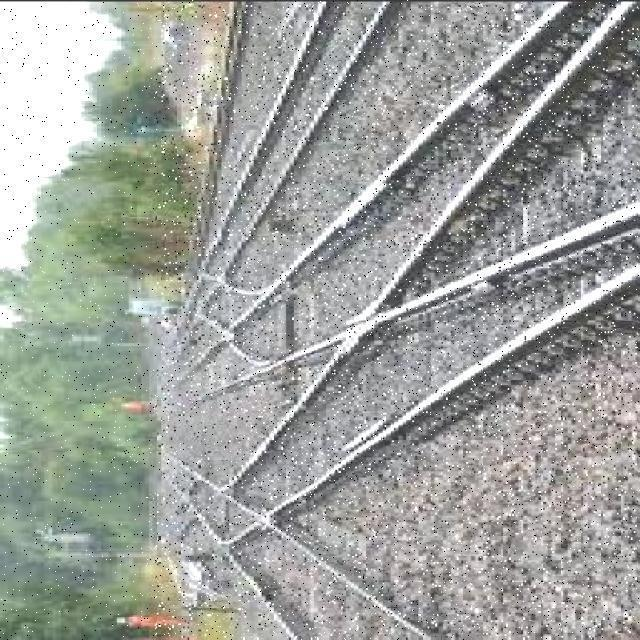rail: (156, 5, 638, 639)
